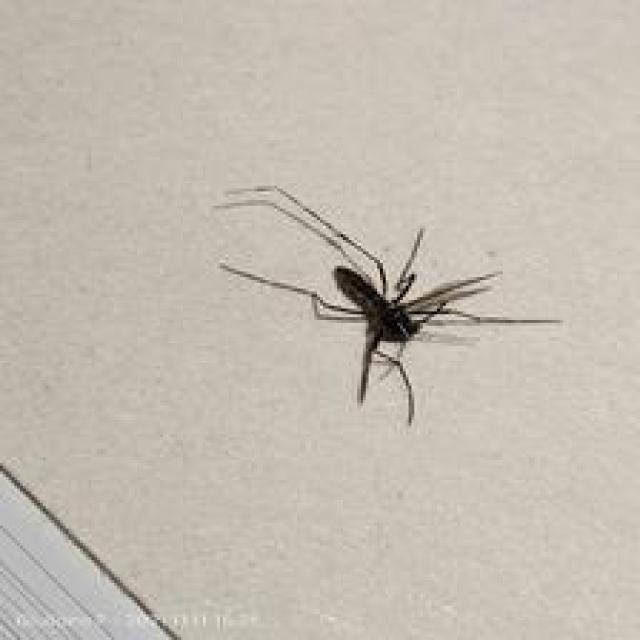Aedes albopictus: (211, 182, 563, 427)
